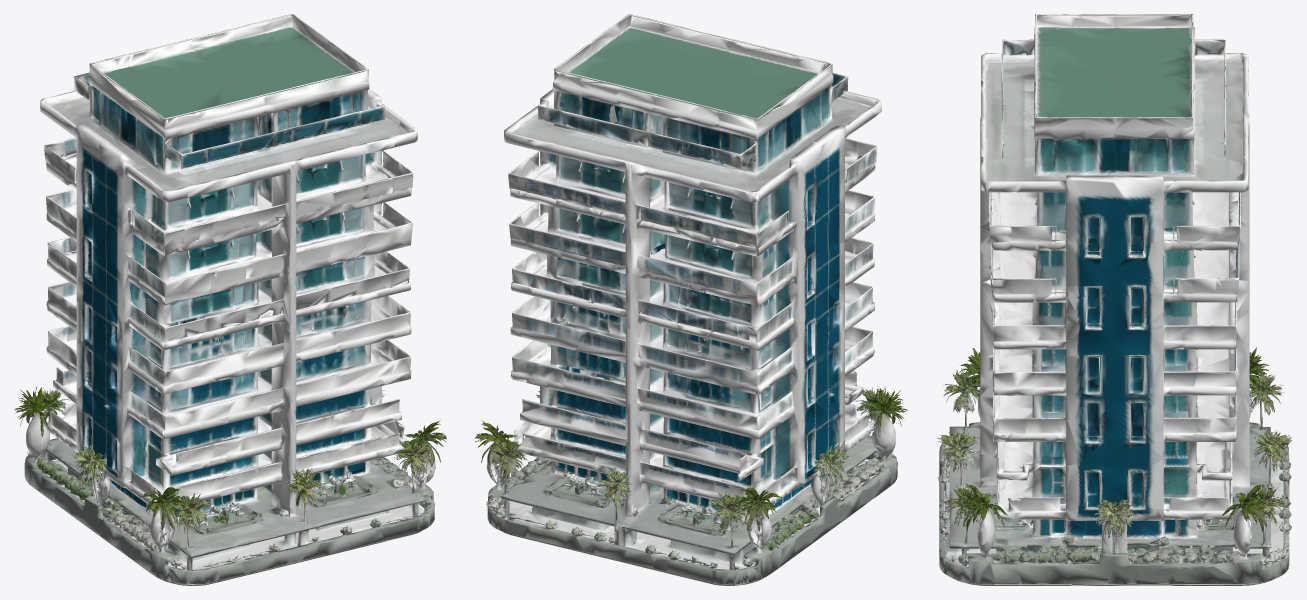
Rendered from coastal_b.glb.
3 views of the same model, side by side, from view 1: azimuth 30°, elevation 25°; view 2: azimuth 150°, elevation 25°; view 3: azimuth 270°, elevation 25° (orthographic). The views are drawn at different scales.
Bounding box in the file's own units: 1.41 × 1.9 × 1.36.
Materials: 1 (1 with a texture image).
